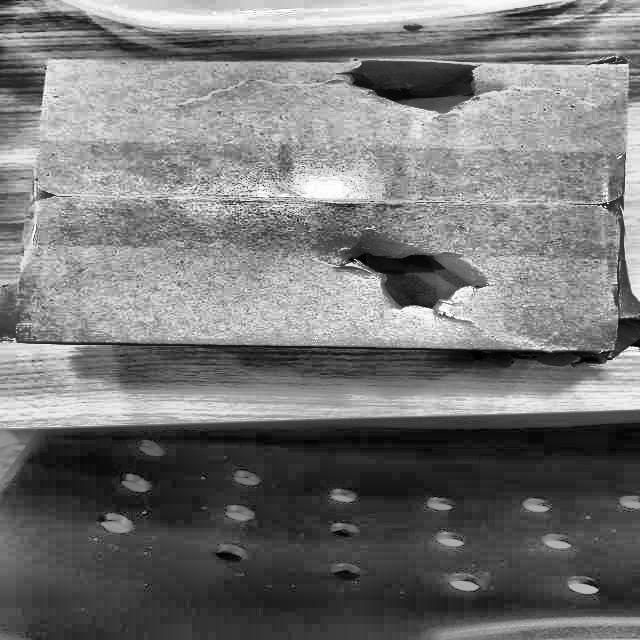box: (9, 56, 640, 371)
hole: (331, 240, 487, 316), (326, 61, 491, 117)
